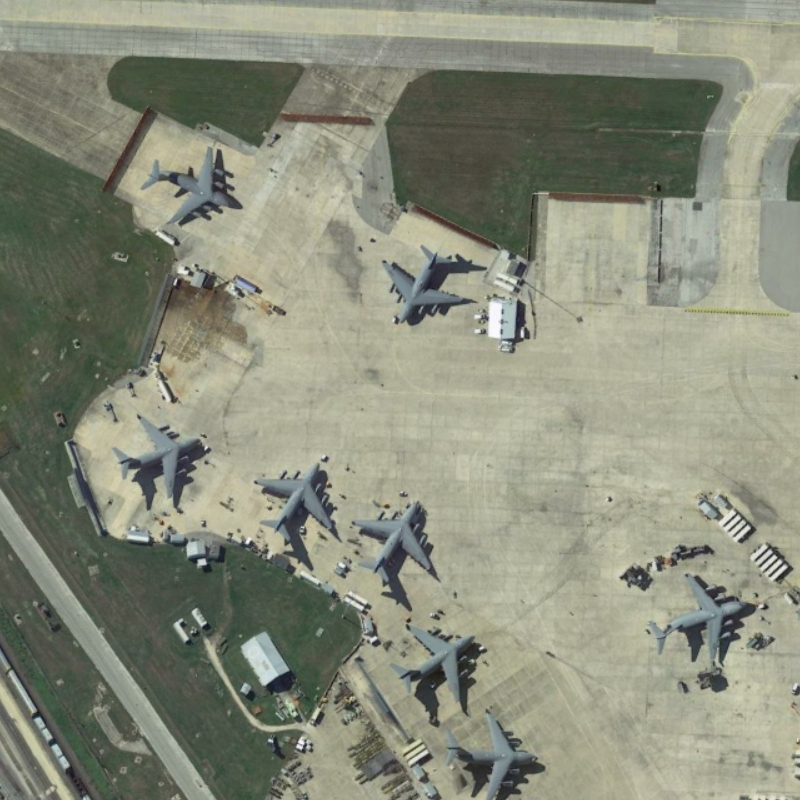A3: (642, 555, 756, 675), (107, 402, 210, 510), (136, 137, 247, 234), (438, 707, 548, 800), (387, 617, 486, 720), (374, 239, 476, 332), (248, 453, 340, 556), (349, 491, 440, 589)
